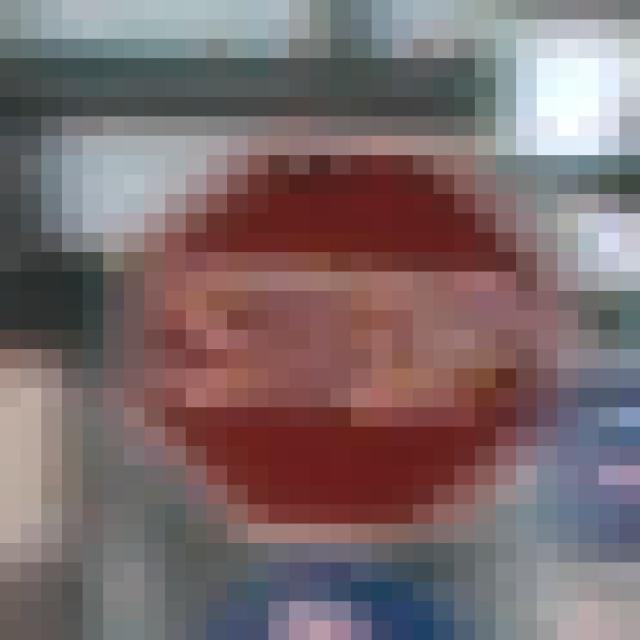STOP: (125, 117, 538, 544)
